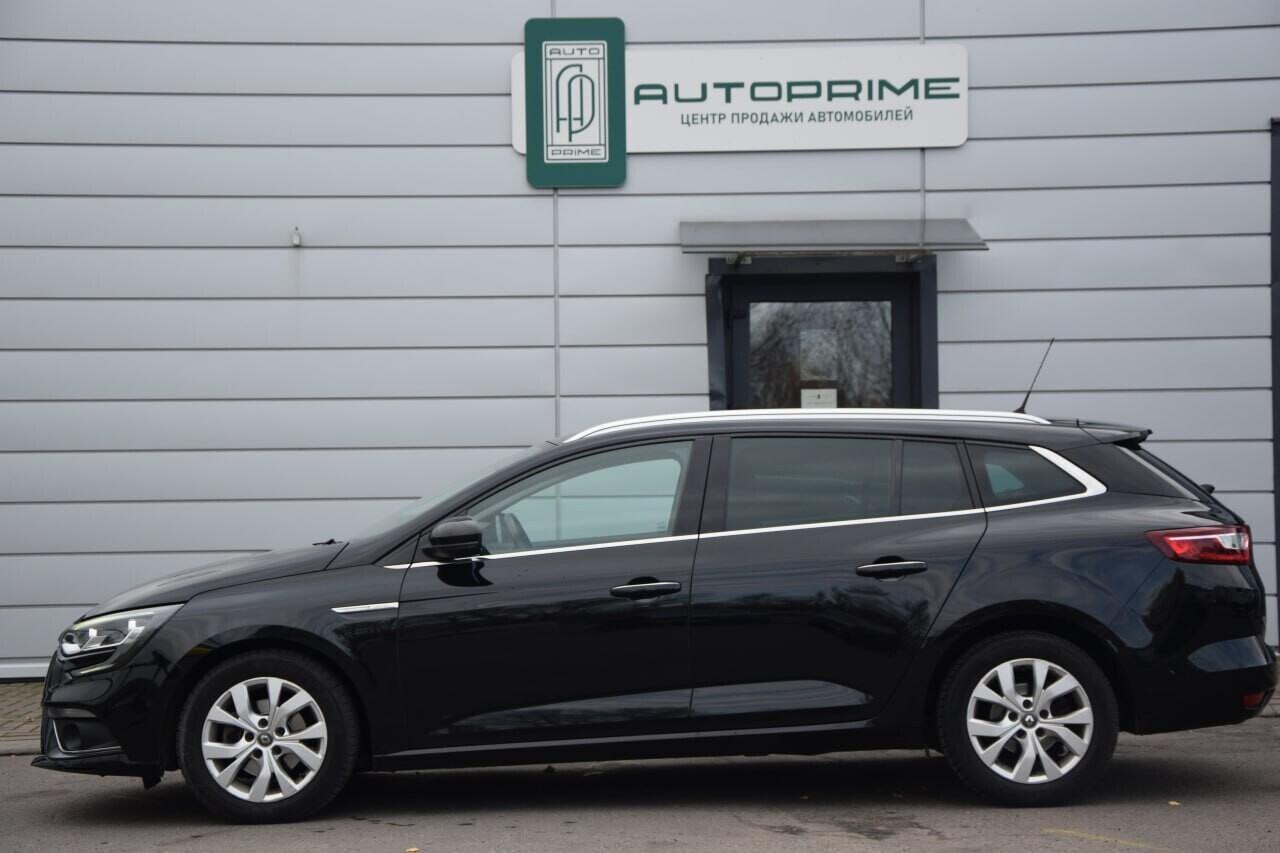Megane_2016-2020: (34, 398, 1280, 819)
